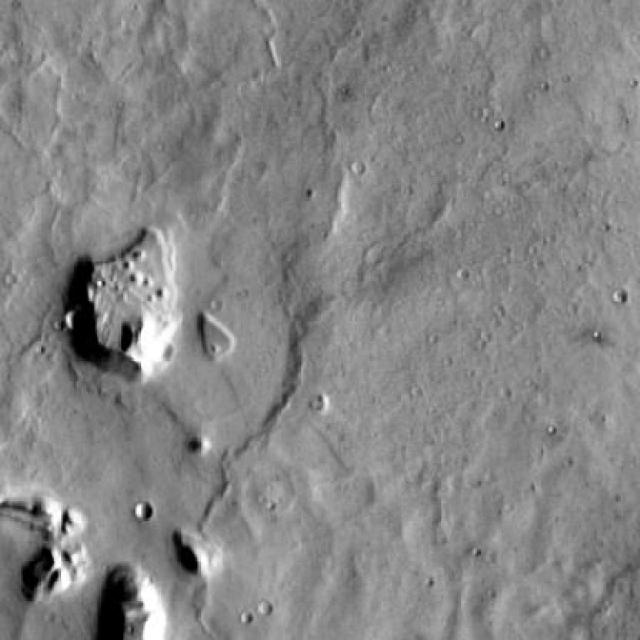crater: (55, 312, 77, 334), (134, 501, 154, 519)
